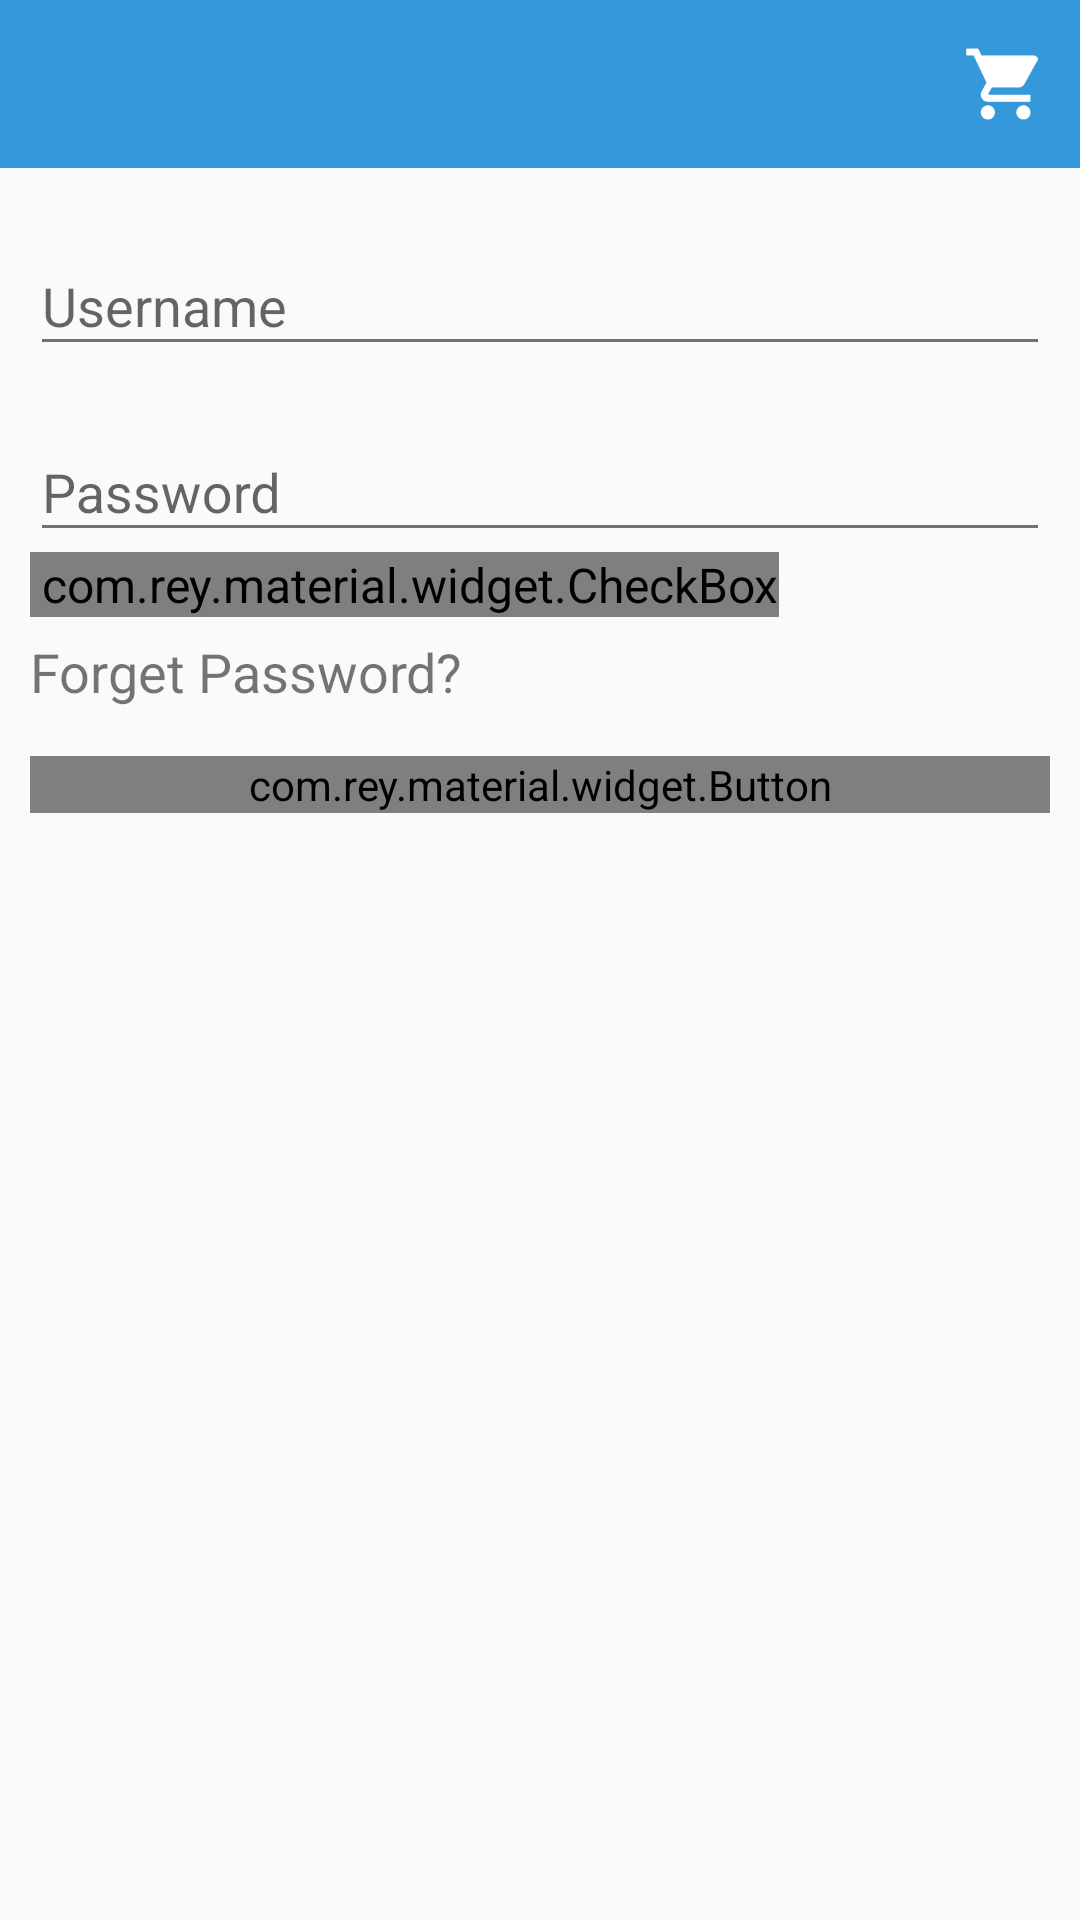

Icon bounding boxes for this 1080 × 1920 phone screenshot, format (x1, y1, x2, y2):
cart: (966, 48, 1038, 120)
